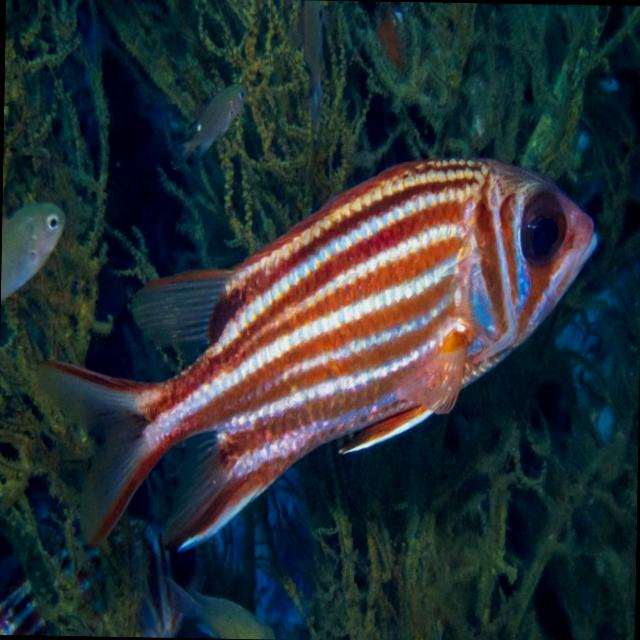Asker Baligi: (31, 145, 600, 562)
